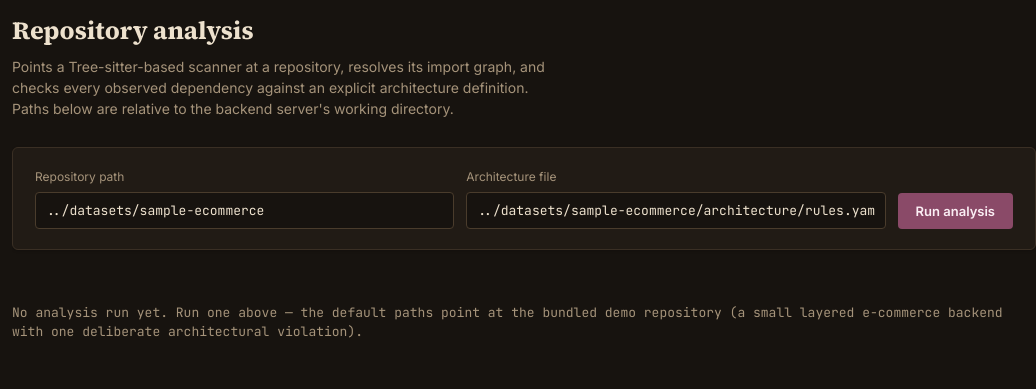
Overview › sends the entered paths, reports the result upward and shows the stats
Replace the text in the field labelled "Repository path" with "/data/my-repo": (245, 210) [35,192,454,228]
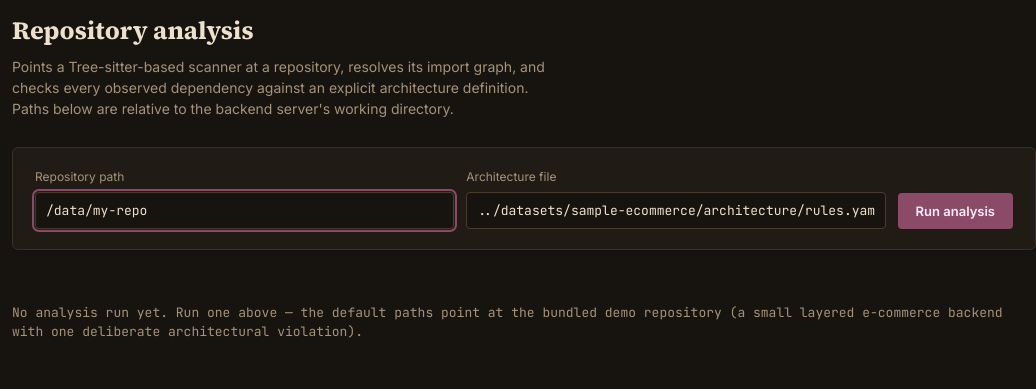
Click the button "Run analysis": click(955, 210) [898,192,1013,228]
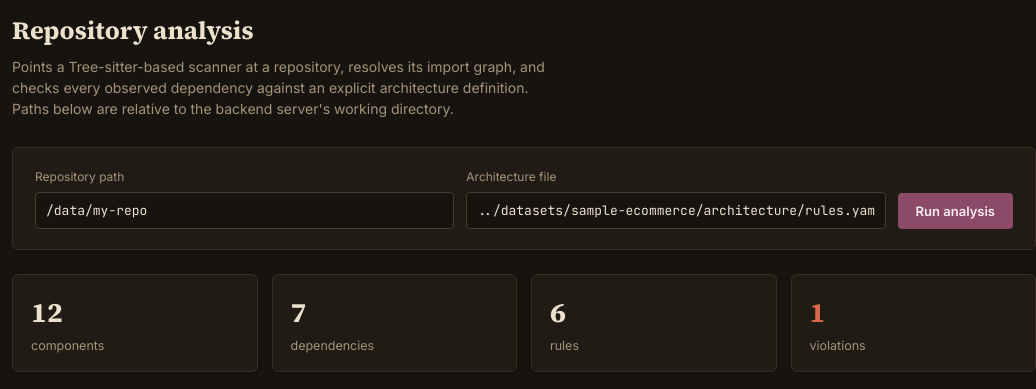
Expected: the text "violations" is shown, [810,338,866,352]
Expected: the text "1" is shown, [810,292,825,330]
